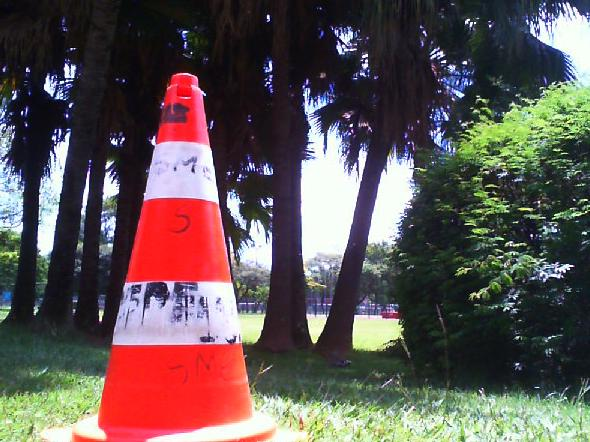0 cone: (39, 73, 311, 442)
